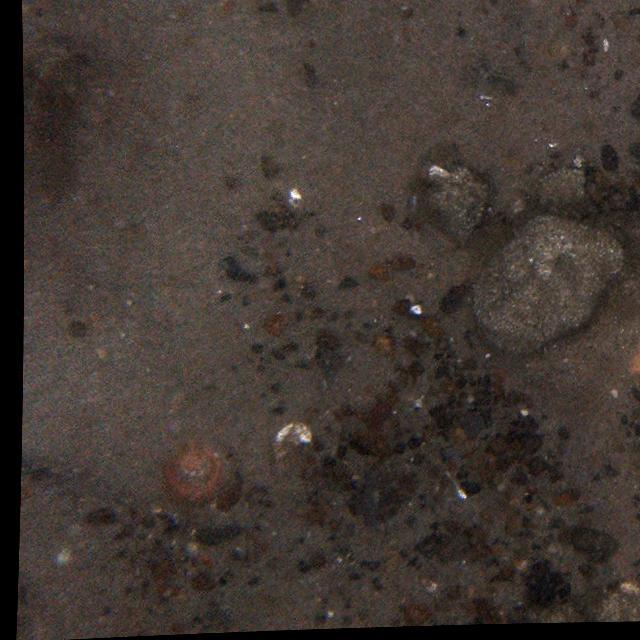scallop: (156, 438, 232, 508)
